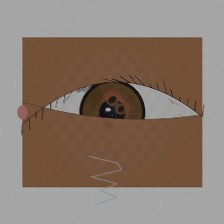foreign_body_visible: (43, 105, 87, 140)
